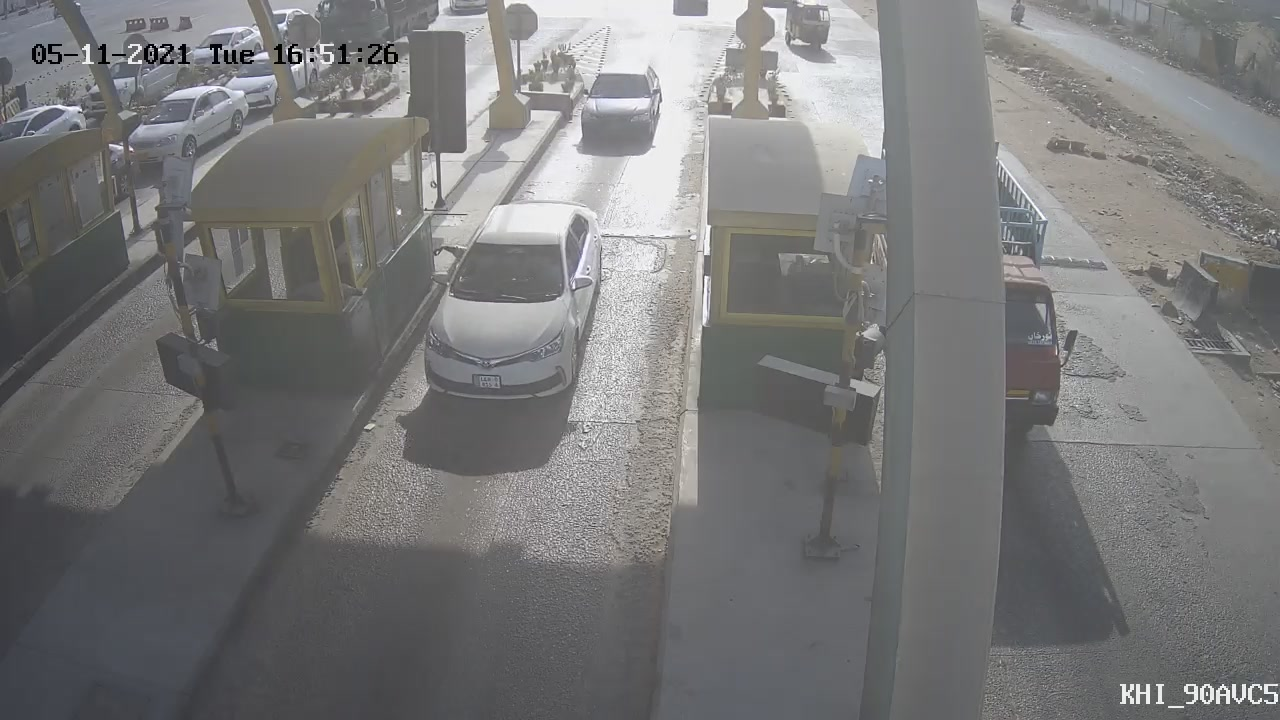F1: (400, 178, 625, 438), (560, 48, 678, 164)
